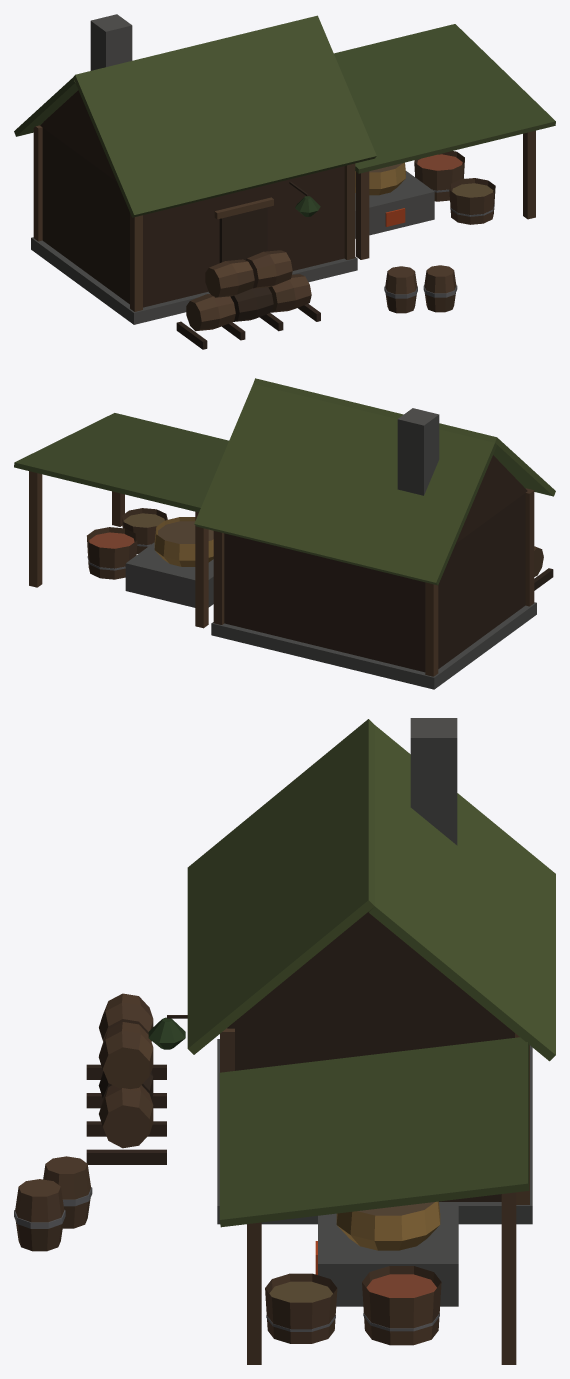
The model's file is walk_rime_brewery.glb.
3 views of the same model, one above another, from view 1: azimuth 30°, elevation 25°; view 2: azimuth 150°, elevation 25°; view 3: azimuth 270°, elevation 25° (orthographic). The views are drawn at different scales.
Visible parts, largest first — view 1: walk_rime_brewery_roof, walk_rime_brewery; view 2: walk_rime_brewery_roof, walk_rime_brewery; view 3: walk_rime_brewery_roof, walk_rime_brewery.
Boxes of the visible parts, left/top/right/bottom form: walk_rime_brewery_roof: left=14, top=14, right=555, bottom=217; walk_rime_brewery: left=31, top=90, right=535, bottom=349; walk_rime_brewery_roof: left=14, top=378, right=555, bottom=585; walk_rime_brewery: left=29, top=455, right=553, bottom=689; walk_rime_brewery_roof: left=187, top=718, right=555, bottom=1227; walk_rime_brewery: left=14, top=912, right=532, bottom=1364.
Size of what is drawn, in the model's own units: 11.4 by 6.01 by 8.08.
Materials: 2 (2 with a texture image).
